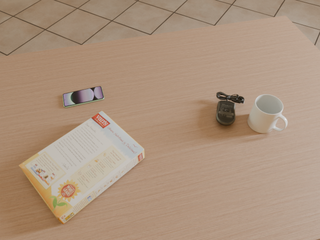box: (19, 111, 145, 224)
cup: (248, 95, 287, 133)
mouse: (216, 92, 244, 126)
phone: (63, 86, 104, 108)
